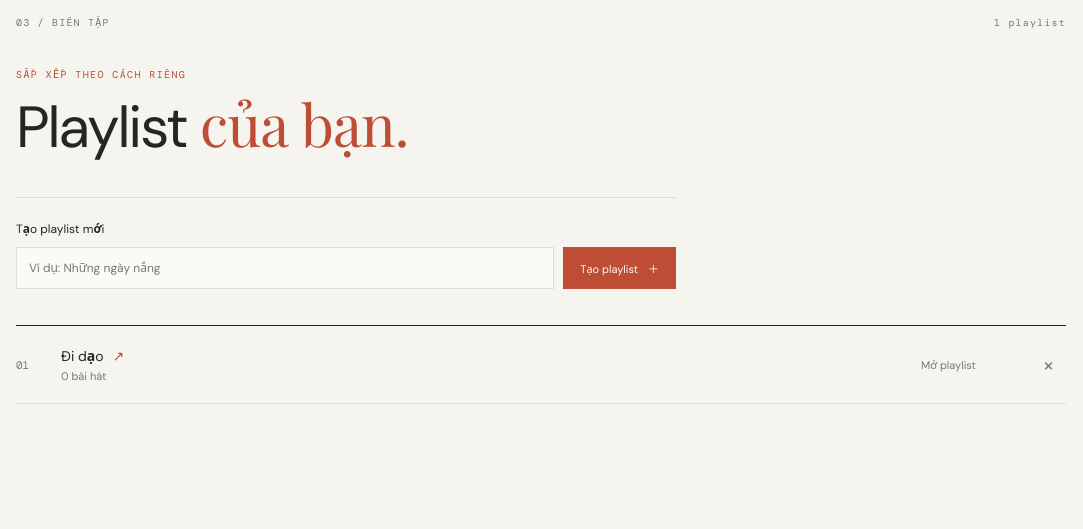
PlaylistsPage › xóa playlist đã tạo
Click the button named "Xóa Đi dạo" at (1048,364), box [1031,350,1066,380]
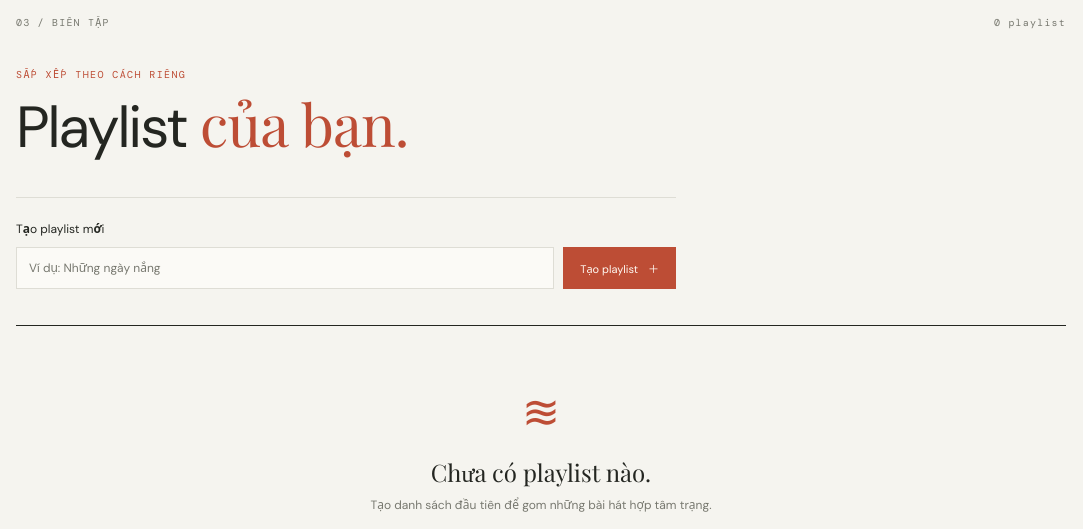
Check: the heading "Chưa có playlist nào." is shown, box [431,456,651,488]
